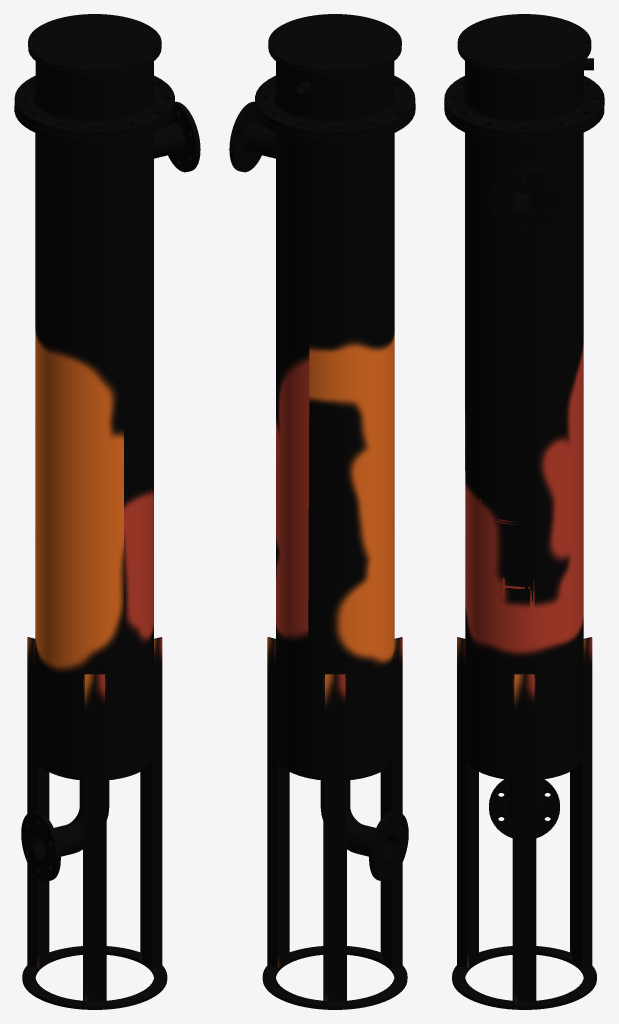
The model's file is Dry Air.fbx.
3 views of the same model, side by side, from view 1: azimuth 30°, elevation 25°; view 2: azimuth 150°, elevation 25°; view 3: azimuth 270°, elevation 25° (orthographic).
Parts seen in each view (by area): view 1: Пятый блок\Корпус нагревателя в, Пятый блок\Ножки нагревателя, Пятый блок\Нагревательный элемент, Пятый блок\Крышка элек частей; view 2: Пятый блок\Корпус нагревателя в, Пятый блок\Ножки нагревателя, Пятый блок\Нагревательный элемент, Пятый блок\Крышка элек частей; view 3: Пятый блок\Корпус нагревателя в, Пятый блок\Ножки нагревателя, Пятый блок\Нагревательный элемент, Пятый блок\Крышка элек частей.
Boxes of the visible parts, left/top/right/bottom form: Пятый блок\Корпус нагревателя в: left=14, top=101, right=200, bottom=881; Пятый блок\Ножки нагревателя: left=22, top=637, right=167, bottom=1009; Пятый блок\Нагревательный элемент: left=14, top=46, right=174, bottom=137; Пятый блок\Крышка элек частей: left=28, top=14, right=161, bottom=72; Пятый блок\Корпус нагревателя в: left=229, top=101, right=415, bottom=881; Пятый блок\Ножки нагревателя: left=262, top=637, right=407, bottom=1009; Пятый блок\Нагревательный элемент: left=255, top=46, right=415, bottom=137; Пятый блок\Крышка элек частей: left=268, top=14, right=401, bottom=72; Пятый блок\Корпус нагревателя в: left=444, top=105, right=604, bottom=838; Пятый блок\Ножки нагревателя: left=452, top=637, right=596, bottom=1009; Пятый блок\Нагревательный элемент: left=444, top=46, right=604, bottom=194; Пятый блок\Крышка элек частей: left=457, top=14, right=591, bottom=72.
Size of the model in its own units: 30641 by 174132 by 26992.
